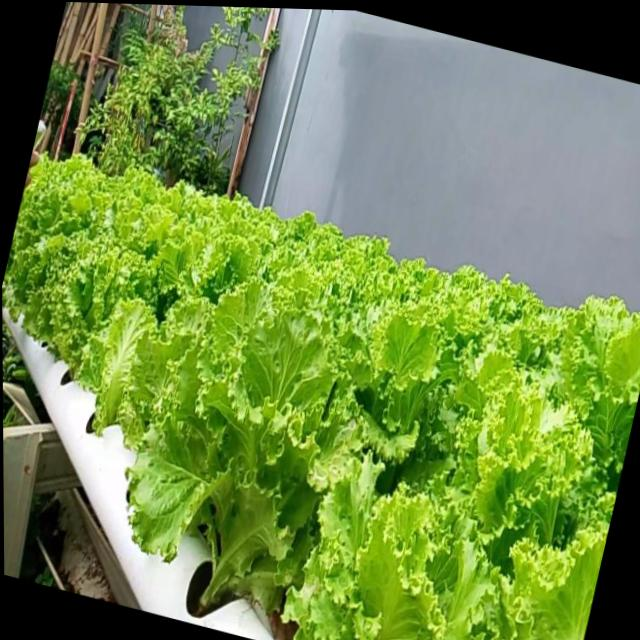Mature: (2, 157, 640, 640), (129, 313, 338, 610), (4, 208, 157, 425)
